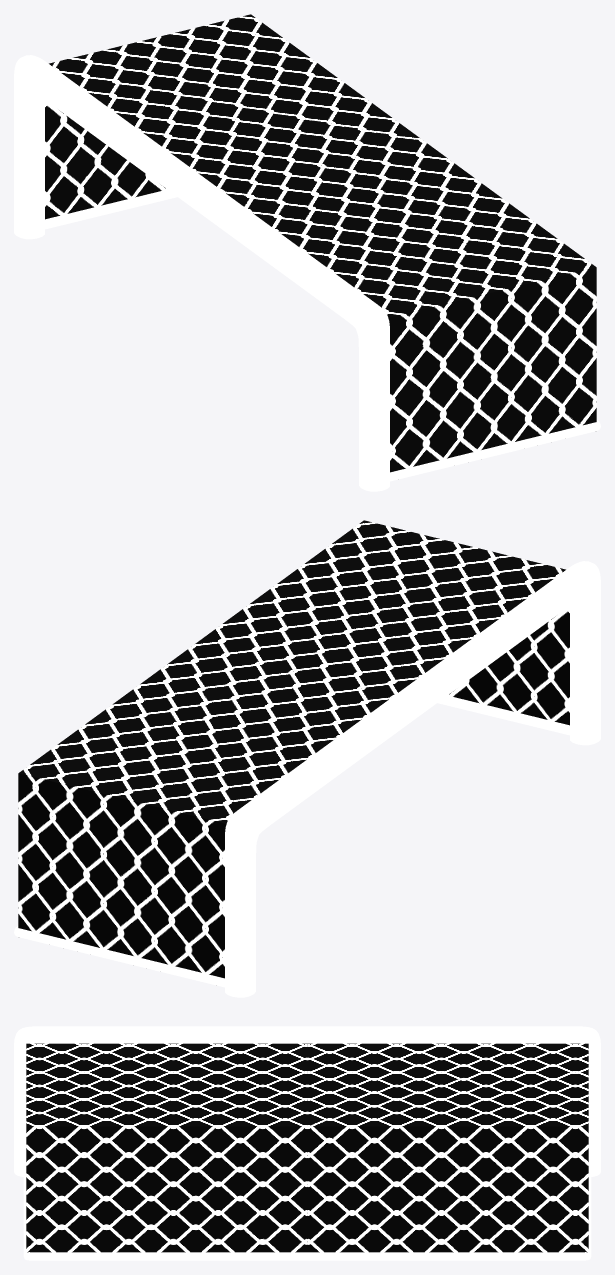
The model's file is khungthanh.glb.
The picture shows the model from 3 angles, top to bottom: view 1: azimuth 30°, elevation 25°; view 2: azimuth 150°, elevation 25°; view 3: azimuth 270°, elevation 25°; orthographic projection. The views are drawn at different scales.
Parts seen in each view (by area): view 1: khungthanh; view 2: khungthanh; view 3: khungthanh.
Part boxes in pixels (x1,y1,x2,y2): khungthanh: (14,14,600,491); khungthanh: (14,520,600,997); khungthanh: (14,1026,600,1260).
Size of the model in its own units: 0.3826 by 0.2699 by 0.9944.
2 materials, 1 textured.
